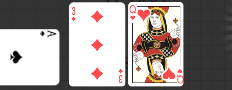3D: (117, 67, 123, 84)
AS: (38, 29, 57, 38)
QH: (139, 8, 165, 32), (174, 62, 200, 86)
